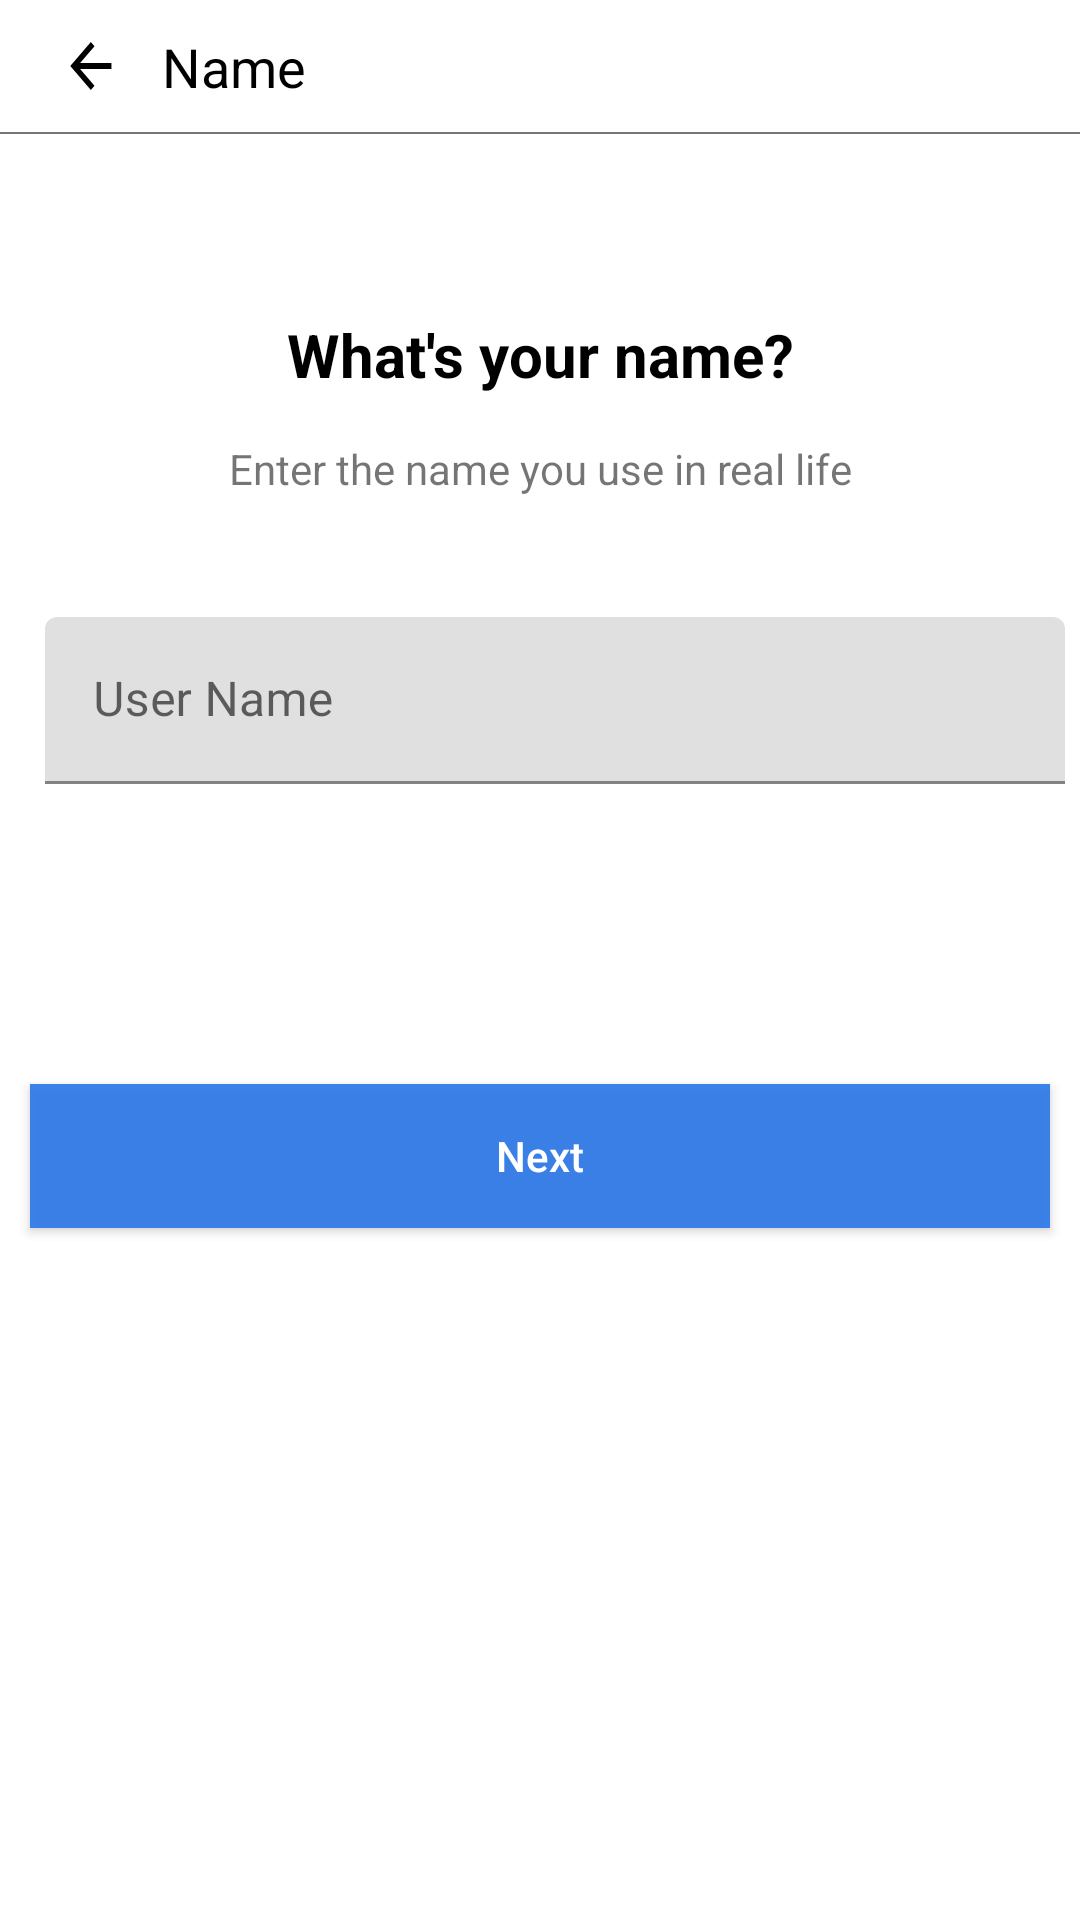

Where to tap for icons on this 1080 × 1920 app screen, as [x,y]:
arrow back: [91,66]
